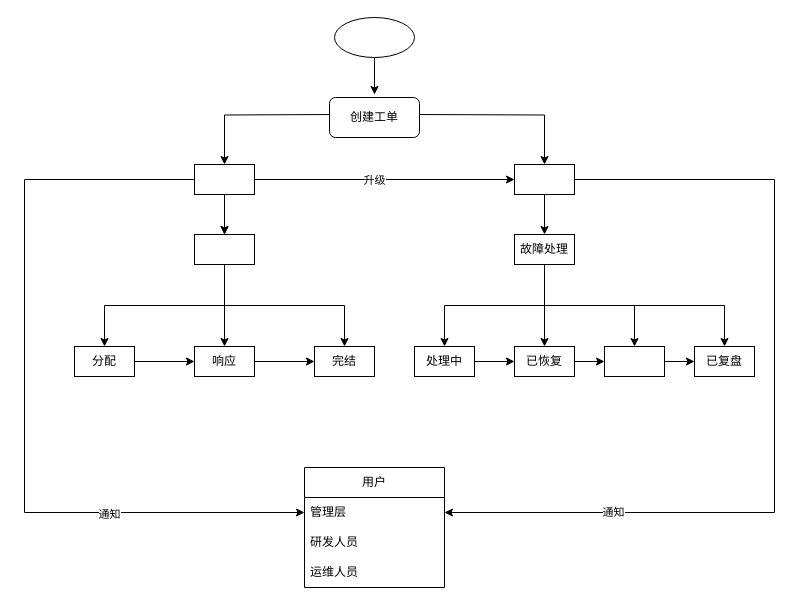
Image size: 800x605. Some labels were removed from this diagram. The centre of each missing label's shape, as x and y in pixels:
"事件" belongs at (224,179).
"事件处理" belongs at (224,249).
"复盘中" belongs at (634,361).
"故障" belongs at (544,179).
"烽火台" belongs at (374,37).
